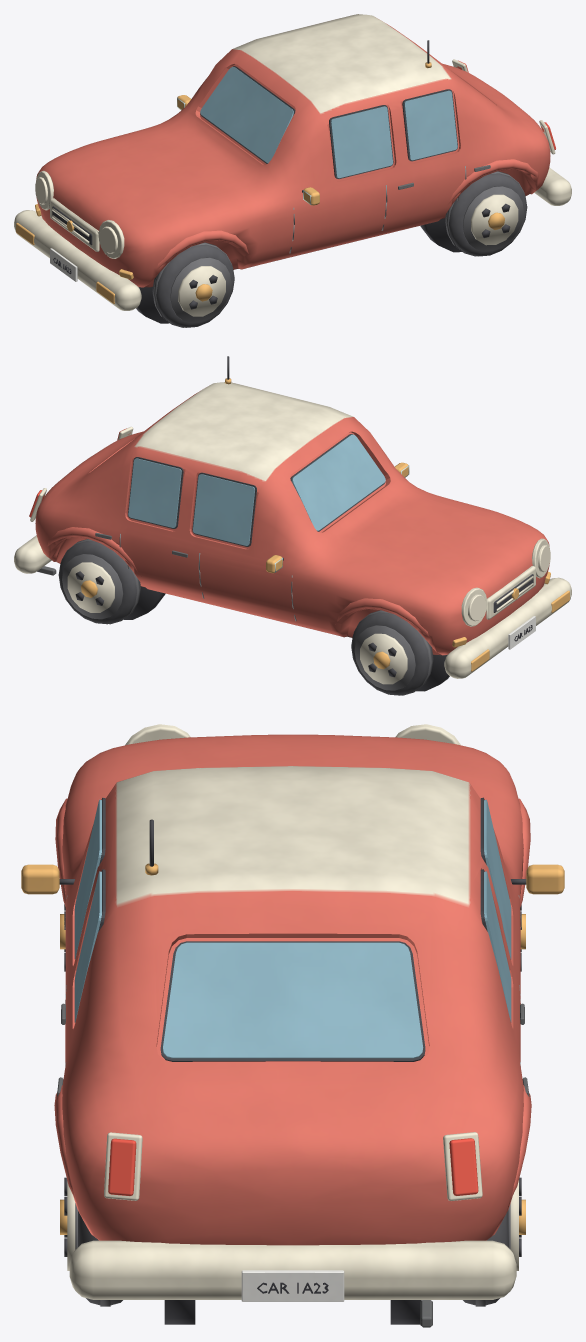
The model's file is Transito_Car.fbx.
The picture shows the model from 3 angles, top to bottom: view 1: azimuth 30°, elevation 25°; view 2: azimuth 150°, elevation 25°; view 3: azimuth 270°, elevation 25°; orthographic projection. The views are drawn at different scales.
Visible parts, largest first — view 1: Transito_Car; view 2: Transito_Car; view 3: Transito_Car.
Boxes of the visible parts, box(x1,y1,x2,y2) form: Transito_Car: box(14, 14, 571, 327); Transito_Car: box(14, 356, 571, 695); Transito_Car: box(21, 724, 564, 1327).
Size of the model in its own units: 4.15 by 1.93 by 2.12.
1 material, 1 textured.
